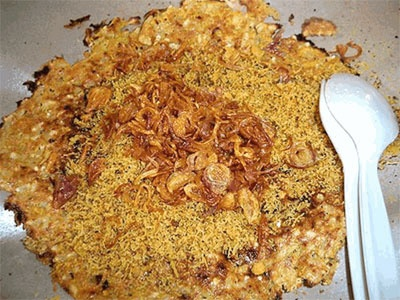kerak_telor: (4, 3, 347, 296)
